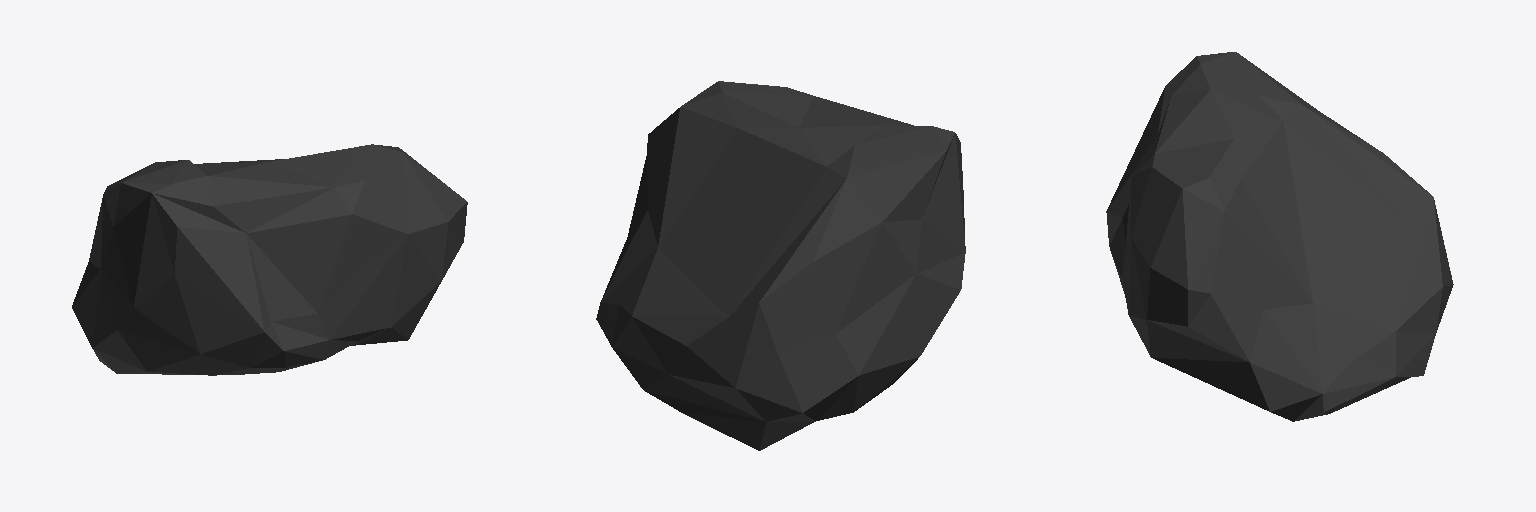
Rendered from Ast6.obj.
3 renders of one model, left to right at view 1: azimuth 30°, elevation 25°; view 2: azimuth 150°, elevation 25°; view 3: azimuth 270°, elevation 25°, orthographic.
Parts seen in each view (by area): view 1: Asteroid_2.004; view 2: Asteroid_2.004; view 3: Asteroid_2.004.
Part boxes in pixels (x1,y1,x2,y2): Asteroid_2.004: (72, 144, 467, 375); Asteroid_2.004: (596, 81, 965, 450); Asteroid_2.004: (1106, 52, 1453, 421).
Bounding box in the file's own units: 180 × 136 × 163.